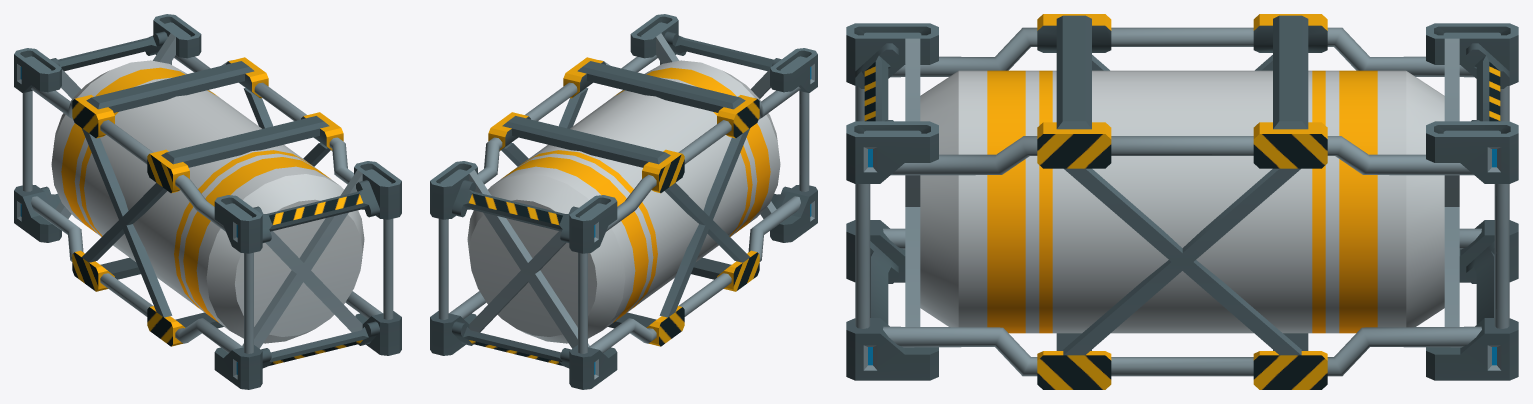
The model's file is Gas_cistern_type_A_001.fbx.
3 views of the same model, side by side, from view 1: azimuth 30°, elevation 25°; view 2: azimuth 150°, elevation 25°; view 3: azimuth 270°, elevation 25° (orthographic). The views are drawn at different scales.
Parts seen in each view (by area): view 1: Gas_cistern_type_A_001; view 2: Gas_cistern_type_A_001; view 3: Gas_cistern_type_A_001.
Boxes of the visible parts, x1=… form: Gas_cistern_type_A_001: x1=14, y1=14, x2=401, y2=389; Gas_cistern_type_A_001: x1=430, y1=14, x2=817, y2=389; Gas_cistern_type_A_001: x1=846, y1=14, x2=1518, y2=389.
Size of the model in its own units: 253 by 600 by 257.
